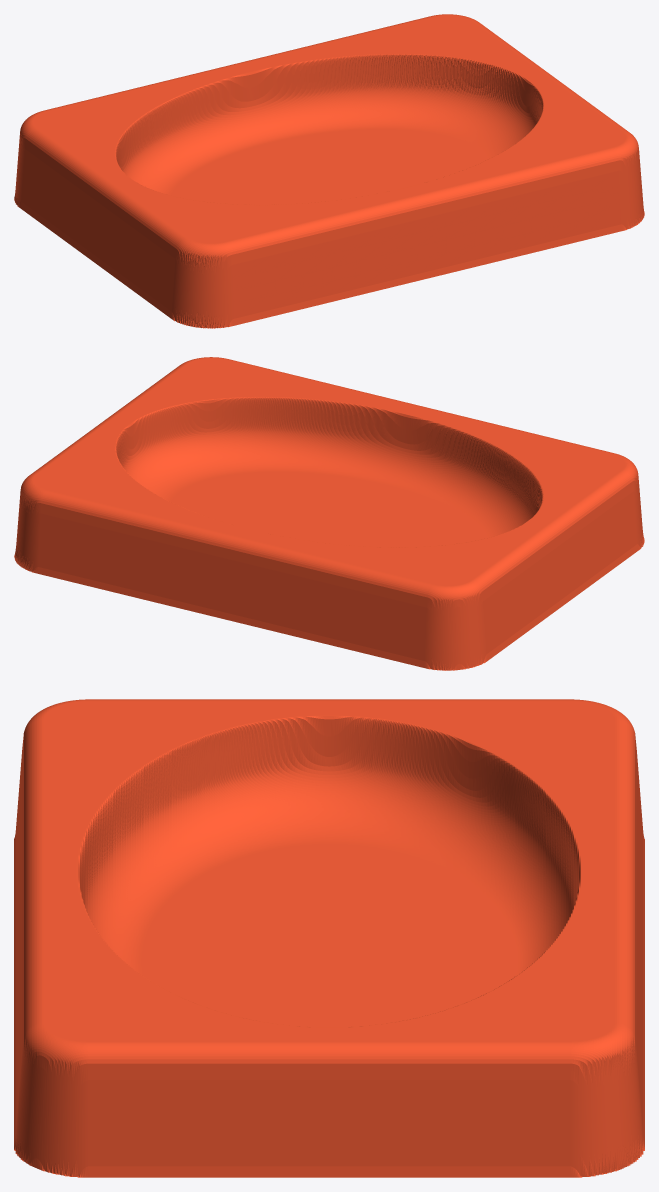
The model's file is mold.glb.
3 renders of one model, top to bottom at view 1: azimuth 30°, elevation 25°; view 2: azimuth 150°, elevation 25°; view 3: azimuth 270°, elevation 25°, orthographic. The views are drawn at different scales.
Parts seen in each view (by area): view 1: geometry_0; view 2: geometry_0; view 3: geometry_0.
Boxes of the visible parts, <box> form: geometry_0: <box>14,14,644,328</box>; geometry_0: <box>14,357,644,670</box>; geometry_0: <box>14,699,644,1177</box>.
Size of the model in its own units: 0.105 by 0.0165 by 0.0766.
